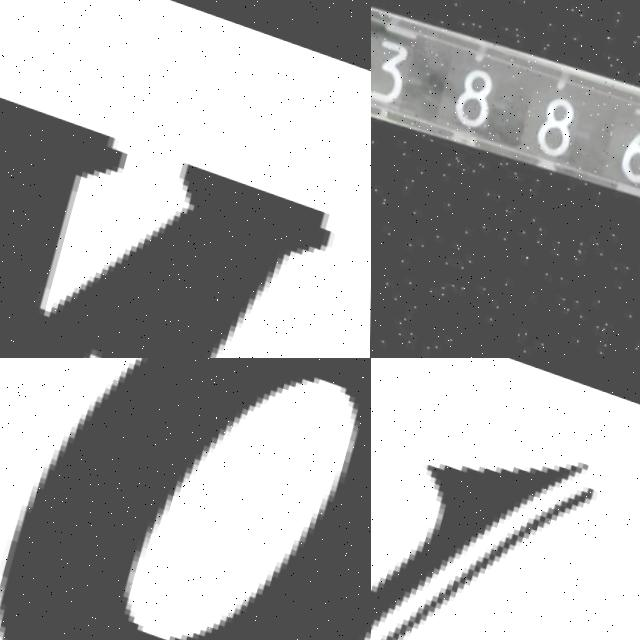0: (0, 358, 371, 640)
3: (371, 27, 416, 107)
6: (613, 105, 640, 183)
8: (529, 81, 583, 156), (448, 55, 500, 128)
M: (0, 15, 328, 358)
Y: (371, 358, 607, 640)
